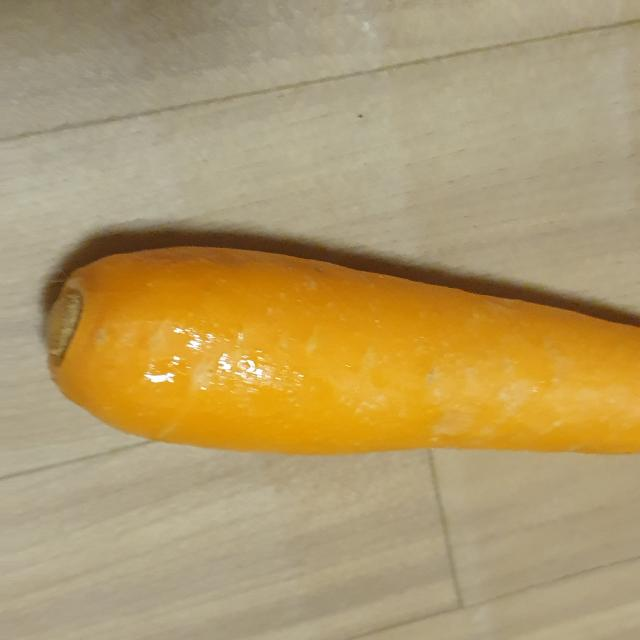Carrot: (36, 238, 640, 462)
